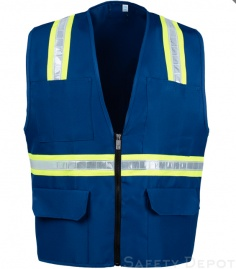safety vest: (23, 2, 210, 269)
